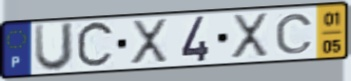4: (179, 15, 211, 65)
C: (74, 19, 117, 72), (273, 12, 315, 56)
U: (32, 21, 76, 74)
X: (229, 11, 271, 60), (129, 17, 170, 66)
